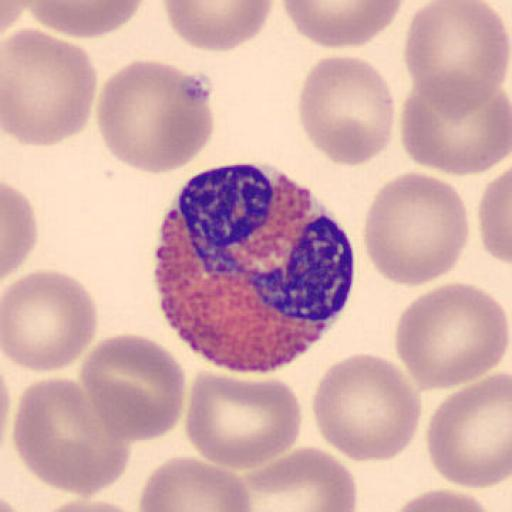RBC: (10, 374, 131, 500), (95, 57, 216, 176), (362, 169, 471, 288), (393, 280, 510, 390), (311, 352, 423, 466), (77, 332, 186, 444), (402, 0, 510, 113), (186, 368, 304, 471), (399, 74, 512, 176), (2, 26, 98, 146), (297, 53, 396, 167), (2, 268, 99, 374), (425, 372, 512, 488), (228, 444, 359, 512), (138, 455, 253, 512), (281, 0, 404, 49), (162, 0, 275, 52), (24, 0, 147, 39), (2, 181, 38, 282), (478, 164, 512, 268), (388, 488, 495, 512), (42, 499, 147, 512), (0, 0, 30, 44), (0, 356, 11, 457), (38, 500, 123, 512)
WBC: (150, 162, 356, 374)
